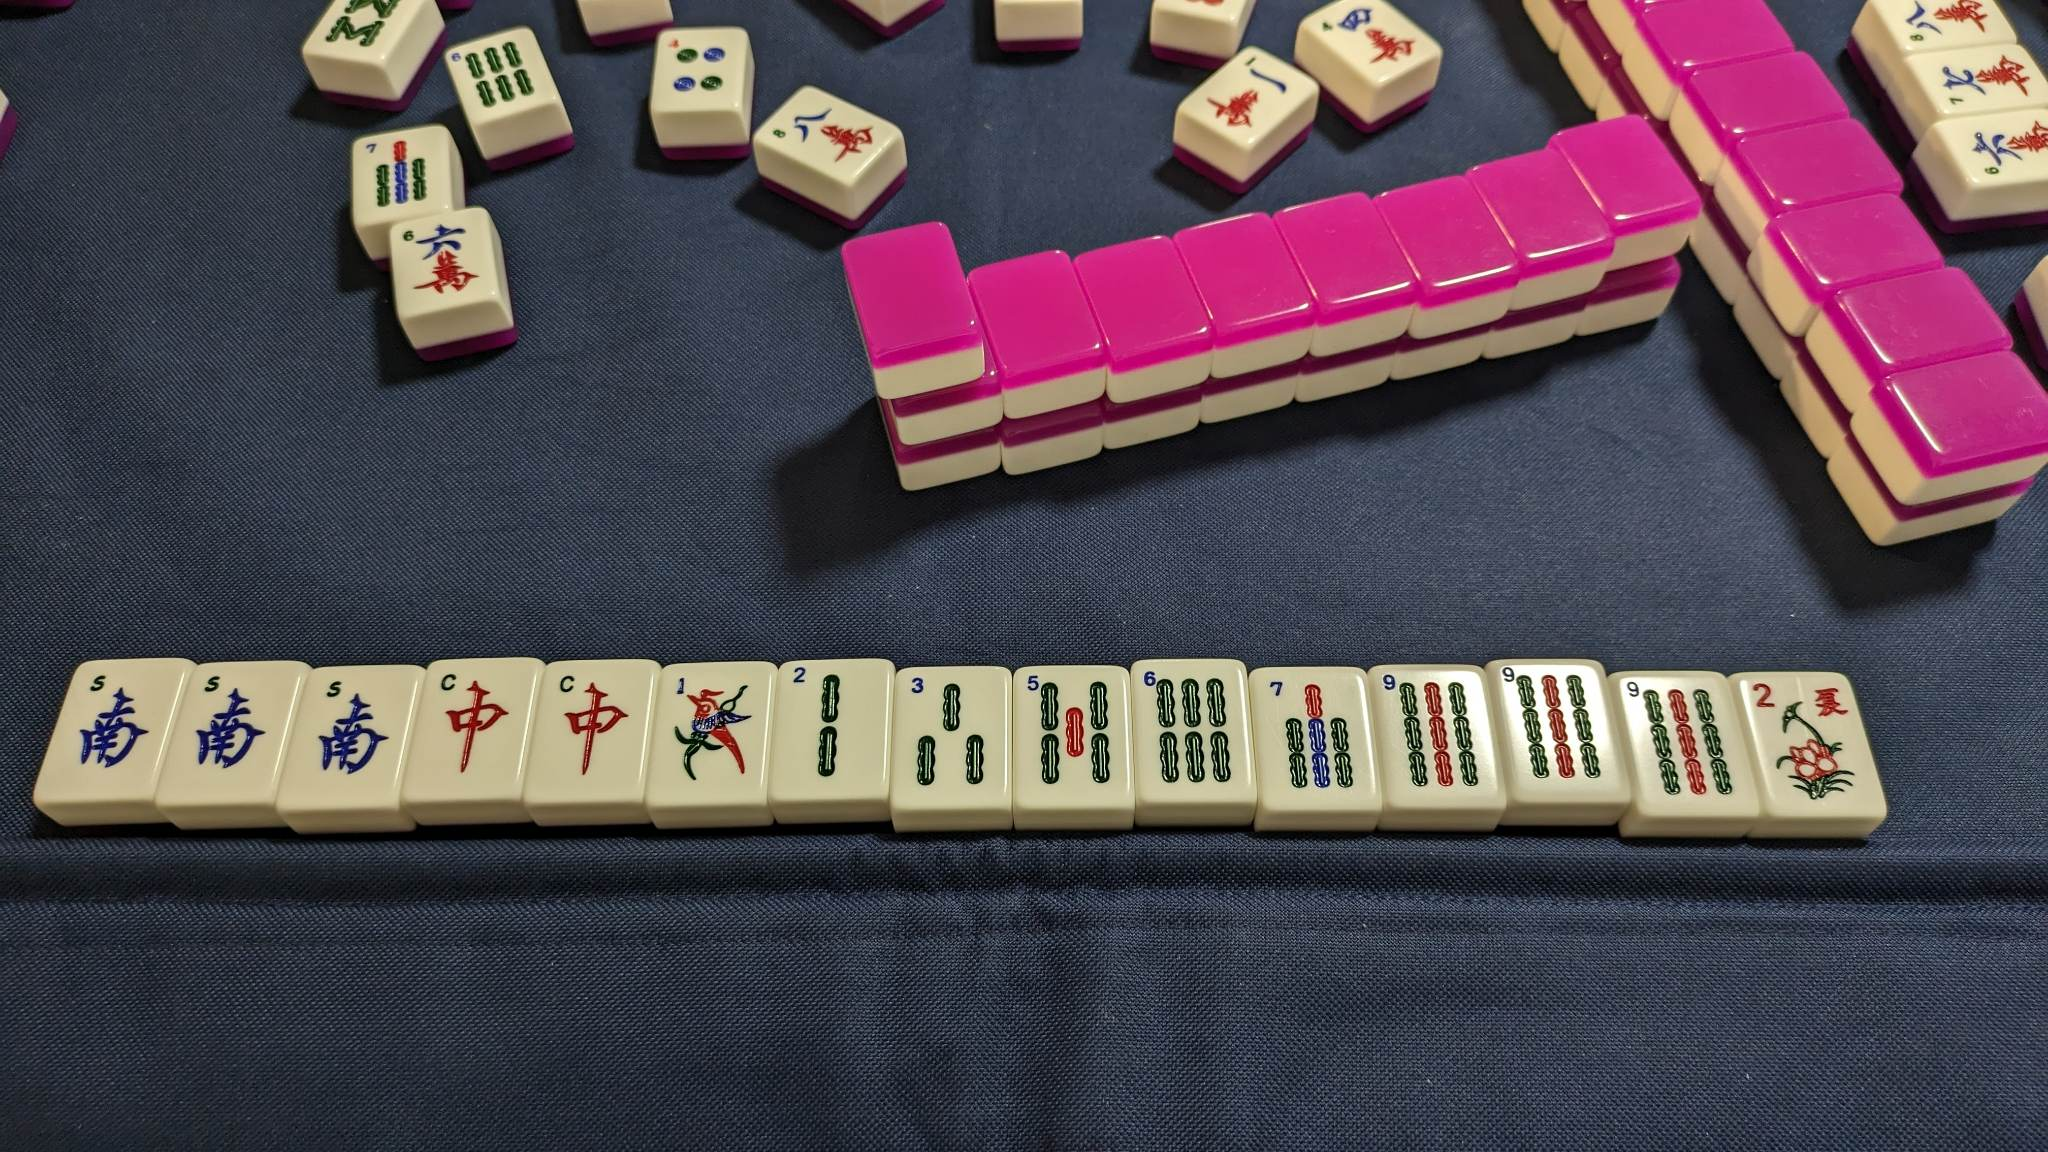bamboo-five: (1018, 671, 1125, 791)
bamboo-nine: (1625, 674, 1746, 800), (1499, 663, 1613, 788), (1378, 670, 1491, 796)
bamboo-one: (663, 670, 760, 782)
bamboo-seven: (1260, 674, 1362, 793)
bamboo-six: (1138, 665, 1242, 791)
bamboo-three: (902, 672, 999, 793)
bamboo-two: (782, 663, 879, 783)
flower-red_two: (1751, 672, 1885, 807)
honor-red_dragon: (429, 667, 515, 788), (546, 667, 634, 776)
honor-south_wind: (188, 667, 269, 781), (309, 675, 392, 782), (73, 670, 151, 774)
